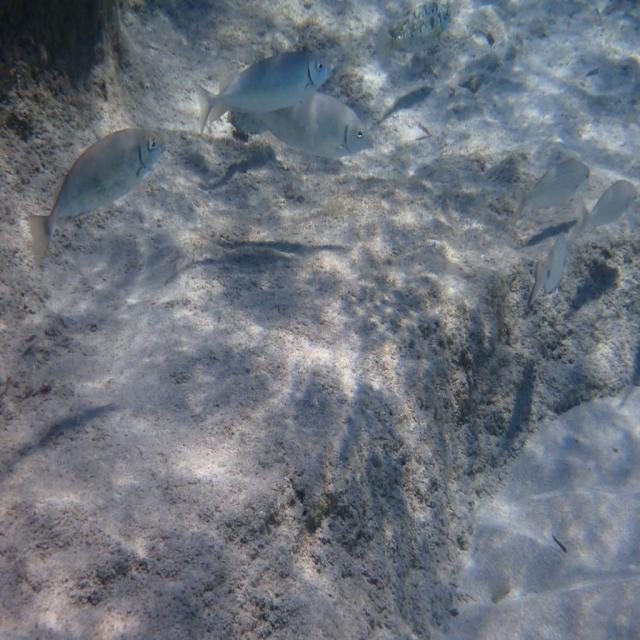Sokar Baligi: (21, 113, 175, 276), (192, 34, 356, 130)
